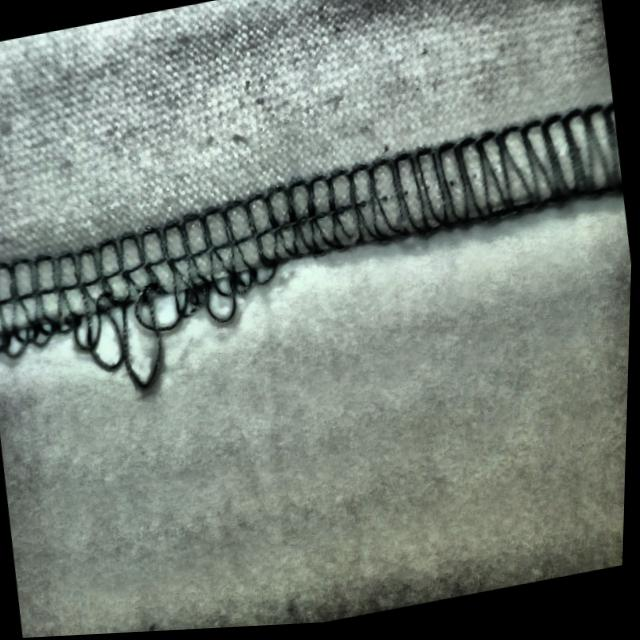Stitch: (0, 193, 295, 419)
